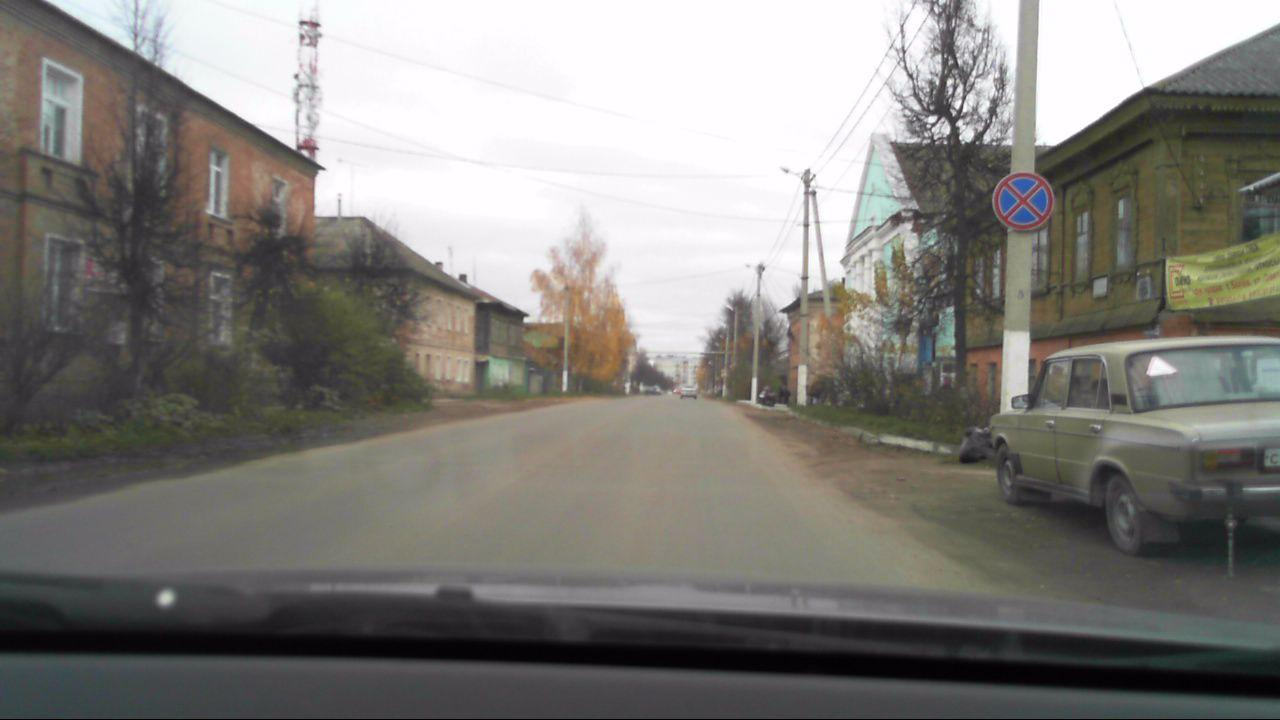3_27: (991, 170, 1056, 232)
